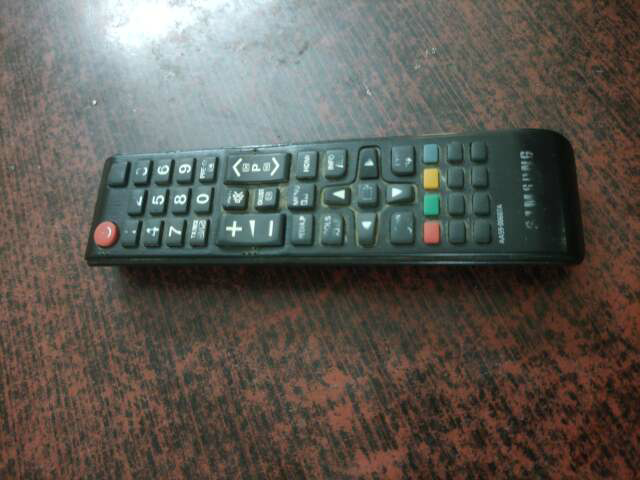remote: (78, 122, 590, 284)
